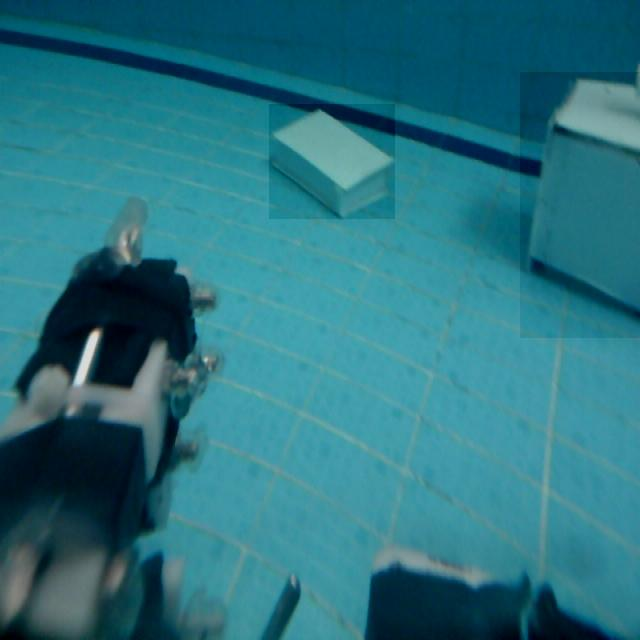Cube: (520, 72, 640, 338)
Cuboid: (269, 104, 395, 219)
